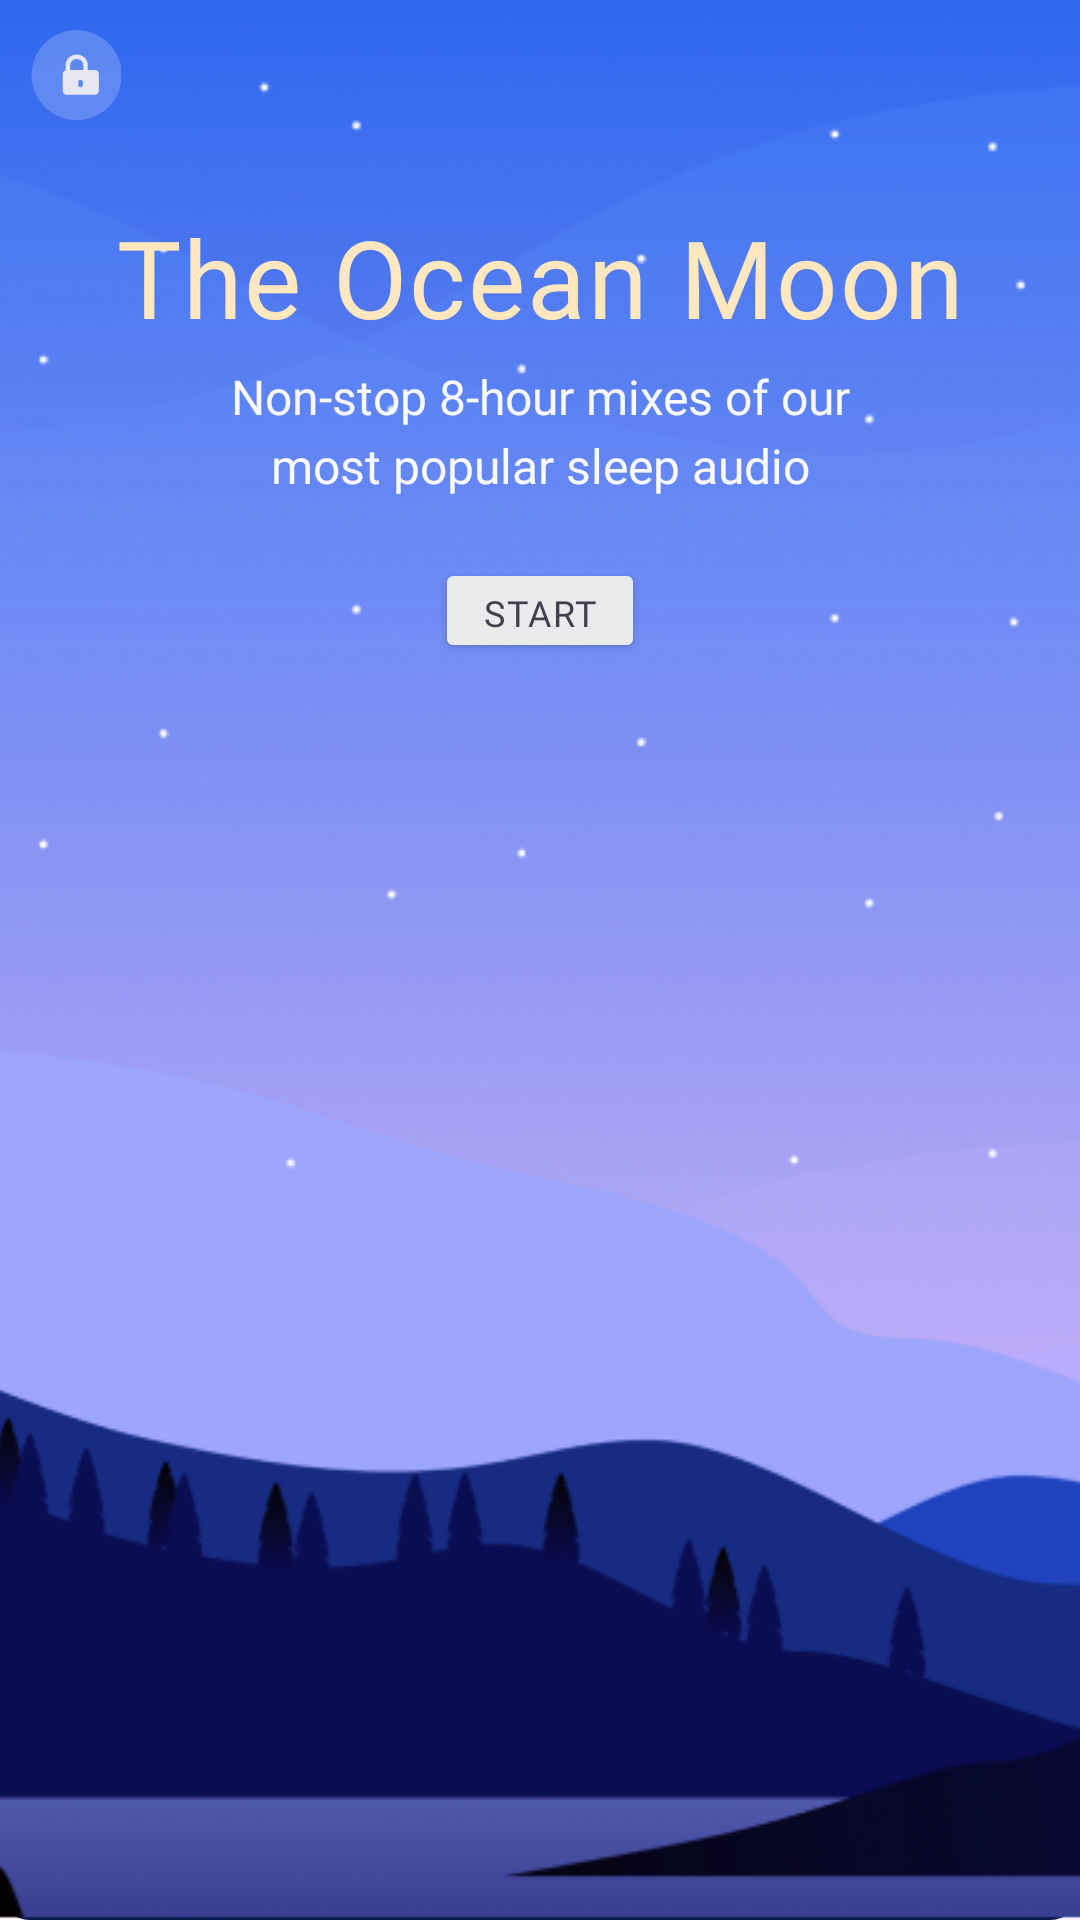

Locate icon controls on the screen. Image size 1080*1920, boxes as Rect(x1, y1, x2, y2).
ocean moon lock: Rect(32, 30, 121, 120)
